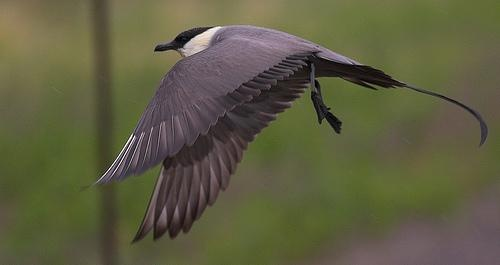bird: (91, 23, 490, 245)
